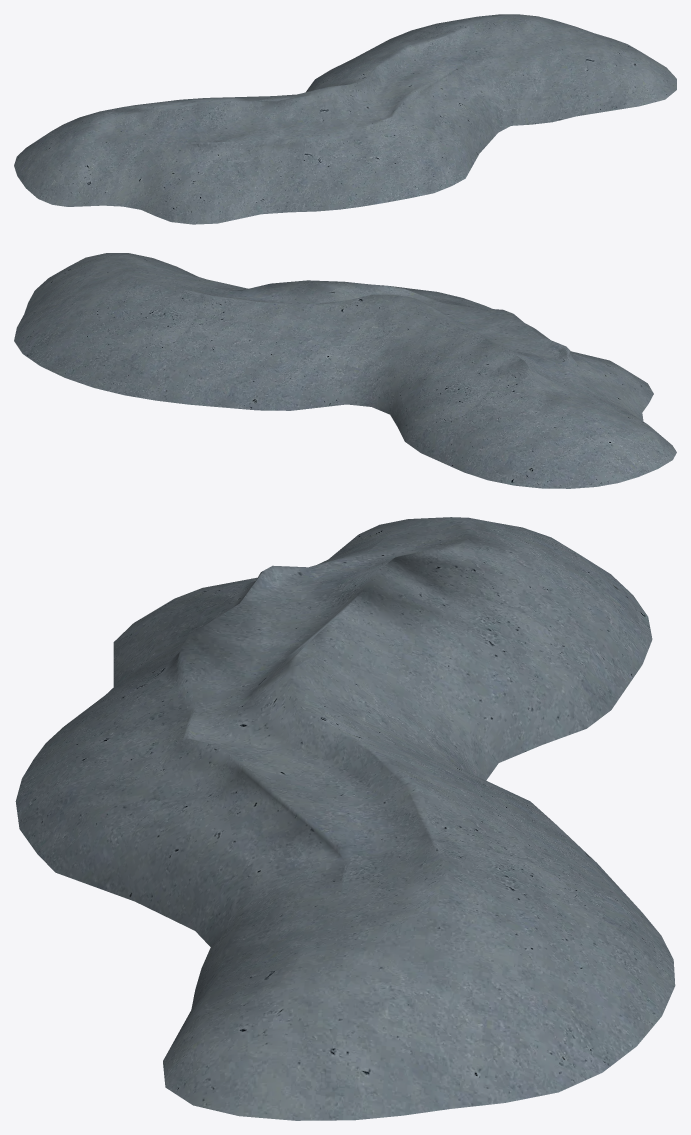
File: tesv_snowdrifitl03int-transformed.glb
3 renders of one model, top to bottom at view 1: azimuth 30°, elevation 25°; view 2: azimuth 150°, elevation 25°; view 3: azimuth 270°, elevation 25°, orthographic. The views are drawn at different scales.
Visible parts, largest first — view 1: snowdrifti03int; view 2: snowdrifti03int; view 3: snowdrifti03int.
Boxes of the visible parts, bbox=[...] form: snowdrifti03int: bbox=[14, 14, 676, 224]; snowdrifti03int: bbox=[14, 253, 676, 488]; snowdrifti03int: bbox=[15, 517, 675, 1120].
Size of the model in its own units: 20.63 by 2.18 by 9.77.
Materials: 1 (1 with a texture image).
